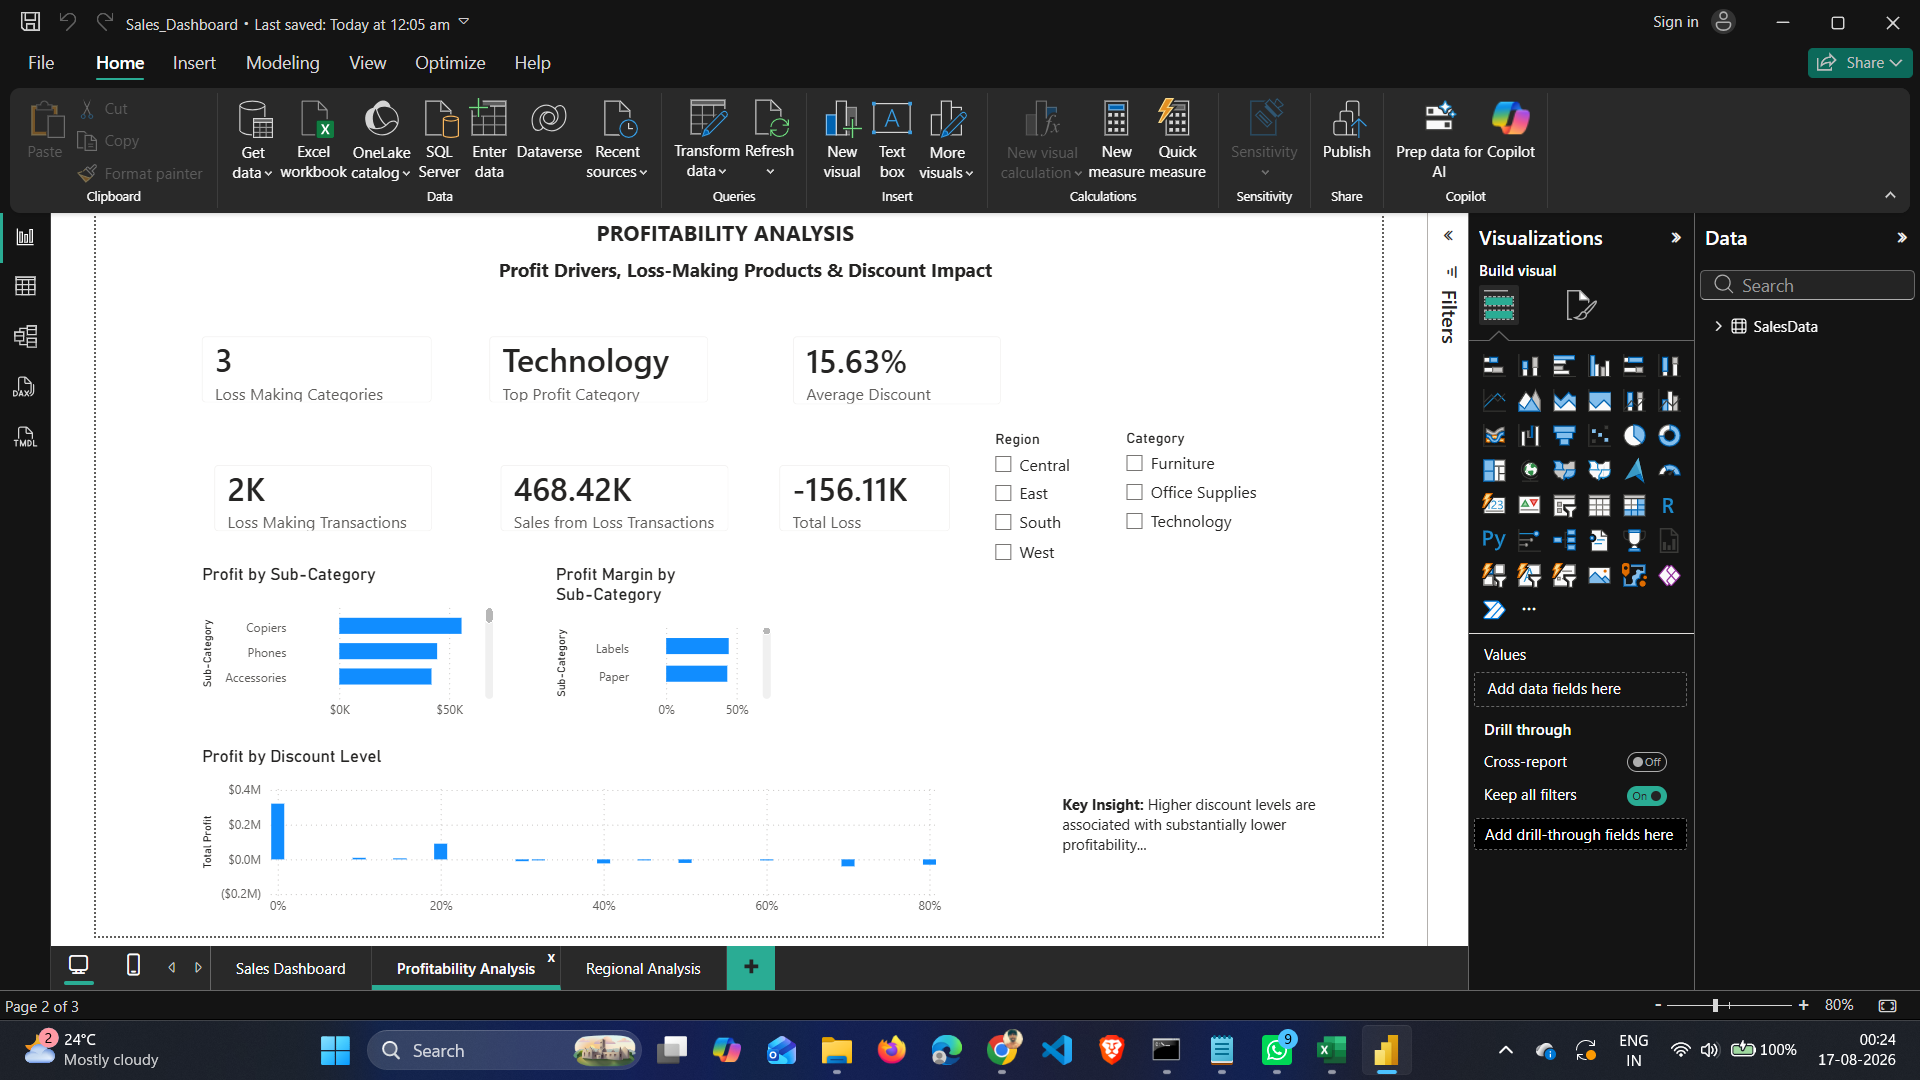

Layout of this report page (visuals, bound fields, positions):
{"tool":"powerbi","page":{"name":"Profitability Analysis","canvas":[1280,720],"ordinal":2},"visuals":[{"type":"textbox","box":[385.6,0,481.4,38.6],"z":0},{"type":"textbox","box":[291.1,38.6,710.3,41.1],"z":1000},{"type":"cardVisual","fields":{"Data":["SalesData.Loss Making Categories"]},"box":[88.3,105.7,263.7,100.8],"z":2000},{"type":"cardVisual","fields":{"Data":["SalesData.Top Profit Category"]},"box":[374.4,105.7,252.5,100.8],"z":3000},{"type":"cardVisual","fields":{"Data":["SalesData.Average Discount"]},"box":[676.7,105.7,241.3,102],"z":4000},{"type":"clusteredBarChart","title":"Profit by Sub-Category","fields":{"Category":["SalesData.Sub-Category"],"Y":["SalesData.Total Profit"]},"box":[100.8,349.6,299.8,163],"z":5000},{"type":"clusteredBarChart","title":"Profit Margin by Sub-Category","fields":{"Category":["SalesData.Sub-Category"],"Y":["SalesData.Profit Margin %"]},"box":[452.8,349.6,223.9,163],"z":6000},{"type":"clusteredColumnChart","title":"Profit by Discount Level","fields":{"Category":["SalesData.Discount"],"Y":["SalesData.Total Profit"]},"box":[100.8,529.9,746.4,177.9],"z":7000},{"type":"cardVisual","fields":{"Data":["SalesData.Loss Making Transactions"]},"box":[100.8,233.9,251.3,100.8],"z":8000},{"type":"cardVisual","fields":{"Data":["SalesData.Sales from Loss Transactions"]},"box":[385.6,233.9,261.2,100.8],"z":9000},{"type":"cardVisual","fields":{"Data":["SalesData.Total Loss"]},"box":[663,233.9,204,100.8],"z":10000},{"type":"slicer","fields":{"Values":["SalesData.Region"]},"box":[882,211.5,119.4,148],"z":11000},{"type":"slicer","fields":{"Values":["SalesData.Category"]},"box":[1012.6,210.2,164.2,150.5],"z":12000},{"type":"textbox","box":[956.6,573.5,294.8,75.9],"z":13000}]}

Visuals, with their boxes on the page's 1280x720 design canvas (x1, y1, x2, y2). These are canvas units, not pixel positions in the 1920x1080 screenshot, which may show the page scaled, cropped or inside an application window:
textbox: box(386, 0, 867, 39)
textbox: box(291, 39, 1001, 80)
cardVisual - SalesData.Loss Making Categories: box(88, 106, 352, 206)
cardVisual - SalesData.Top Profit Category: box(374, 106, 627, 206)
cardVisual - SalesData.Average Discount: box(677, 106, 918, 208)
"Profit by Sub-Category" clusteredBarChart: box(101, 350, 401, 513)
"Profit Margin by Sub-Category" clusteredBarChart: box(453, 350, 677, 513)
"Profit by Discount Level" clusteredColumnChart: box(101, 530, 847, 708)
cardVisual - SalesData.Loss Making Transactions: box(101, 234, 352, 335)
cardVisual - SalesData.Sales from Loss Transactions: box(386, 234, 647, 335)
cardVisual - SalesData.Total Loss: box(663, 234, 867, 335)
slicer - SalesData.Region: box(882, 212, 1001, 360)
slicer - SalesData.Category: box(1013, 210, 1177, 361)
textbox: box(957, 574, 1251, 649)
